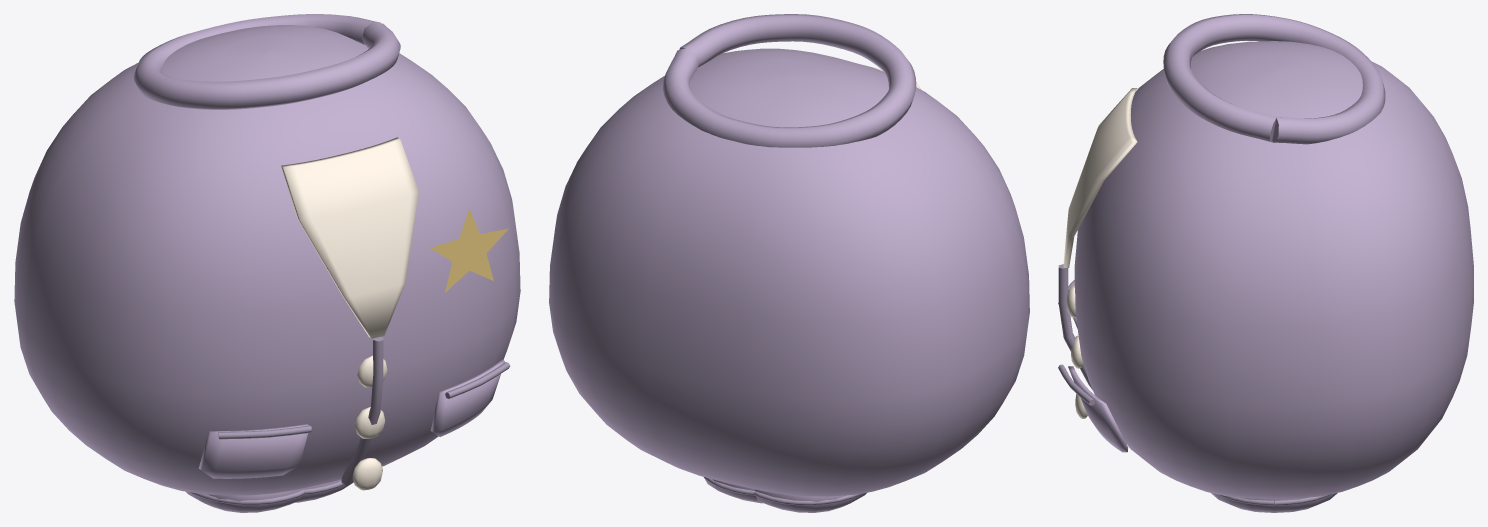
3 renders of one model, left to right at view 1: azimuth 30°, elevation 25°; view 2: azimuth 150°, elevation 25°; view 3: azimuth 270°, elevation 25°, orthographic. The views are drawn at different scales.
Visible parts, largest first — view 1: ota_top_cardigan, ota_star_patch, ota_sleeve_long_R, ota_sleeve_long_L; view 2: ota_top_cardigan, ota_sleeve_long_R, ota_sleeve_long_L; view 3: ota_top_cardigan, ota_sleeve_long_L.
Boxes of the visible parts, left/top/right/bottom form: ota_top_cardigan: left=14, top=14, right=520, bottom=495; ota_star_patch: left=430, top=208, right=508, bottom=292; ota_sleeve_long_R: left=186, top=488, right=304, bottom=512; ota_sleeve_long_L: left=295, top=479, right=353, bottom=502; ota_top_cardigan: left=549, top=14, right=1029, bottom=496; ota_sleeve_long_R: left=754, top=489, right=866, bottom=512; ota_sleeve_long_L: left=703, top=477, right=762, bottom=503; ota_top_cardigan: left=1058, top=14, right=1473, bottom=499; ota_sleeve_long_L: left=1211, top=493, right=1337, bottom=512.
Size of the model in its own units: 0.3483 by 0.3498 by 0.2991.
